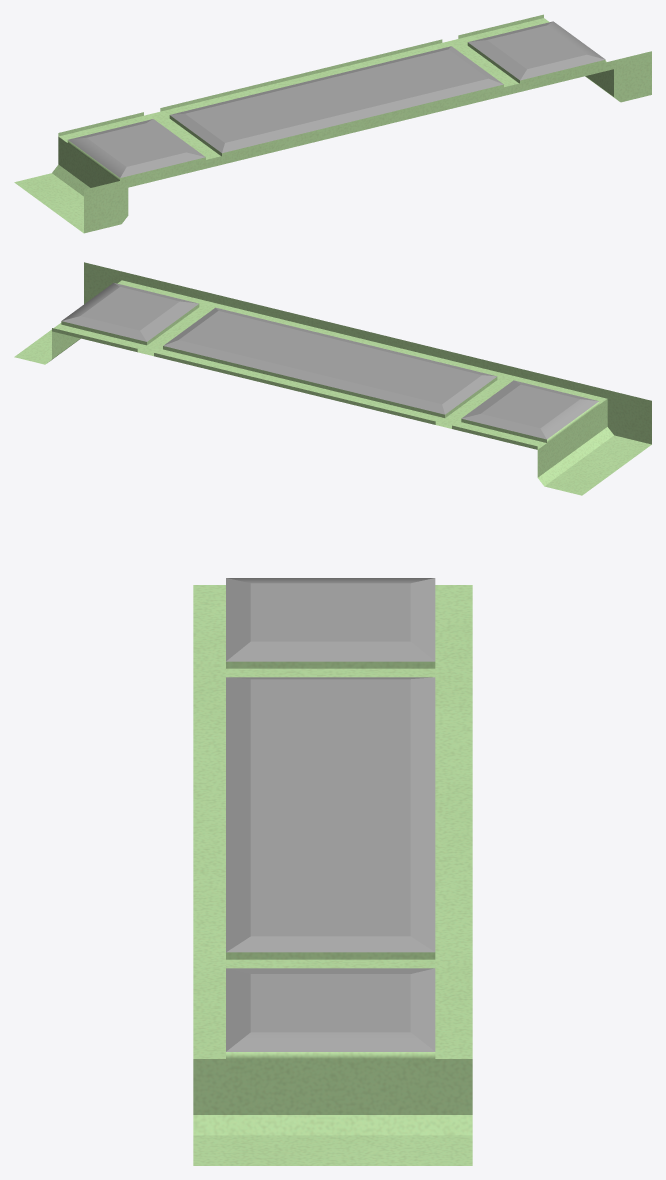
File: SM_petit_plafond.fbx
The picture shows the model from 3 angles, top to bottom: view 1: azimuth 30°, elevation 25°; view 2: azimuth 150°, elevation 25°; view 3: azimuth 270°, elevation 25°; orthographic projection. The views are drawn at different scales.
Visible parts, largest first — view 1: SM_ornements1; view 2: SM_ornements1; view 3: SM_ornements1.
Boxes of the visible parts, x1,y1,x2,y2 form: SM_ornements1: (14, 14, 651, 233); SM_ornements1: (14, 262, 651, 495); SM_ornements1: (193, 578, 472, 1165).
Bounding box in the file's own units: 9 × 0.6622 × 1.92.
